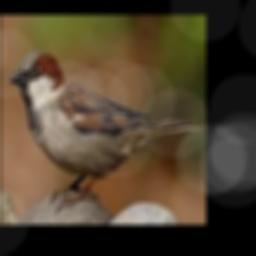Sparrow: (10, 51, 203, 212)
